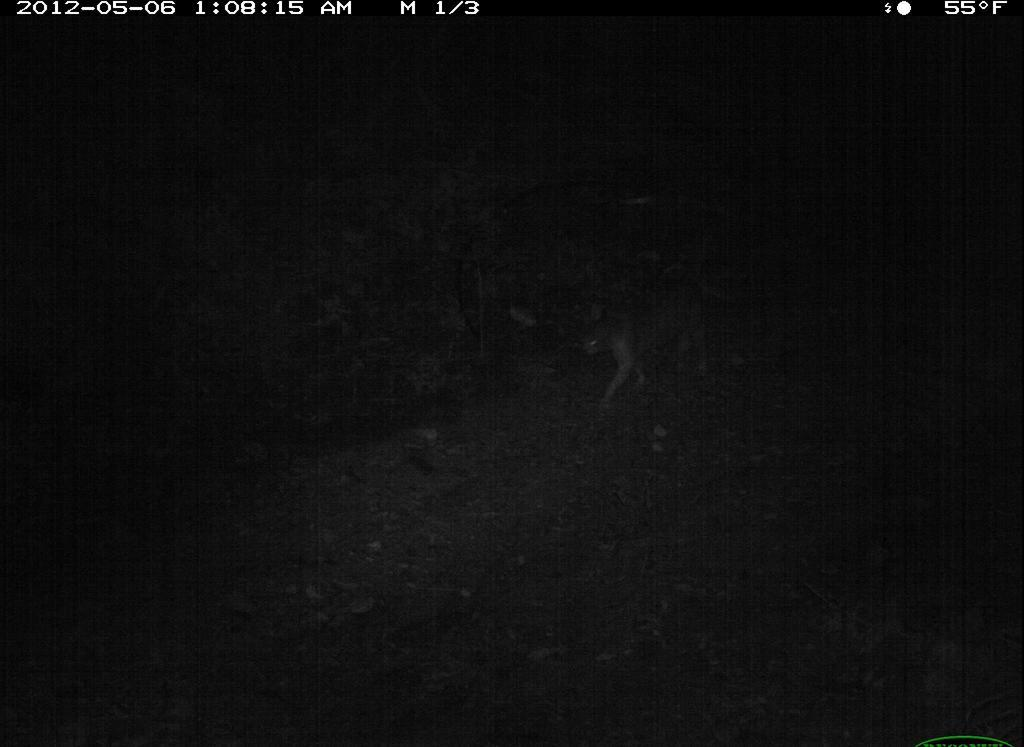cat: (559, 268, 743, 410)
